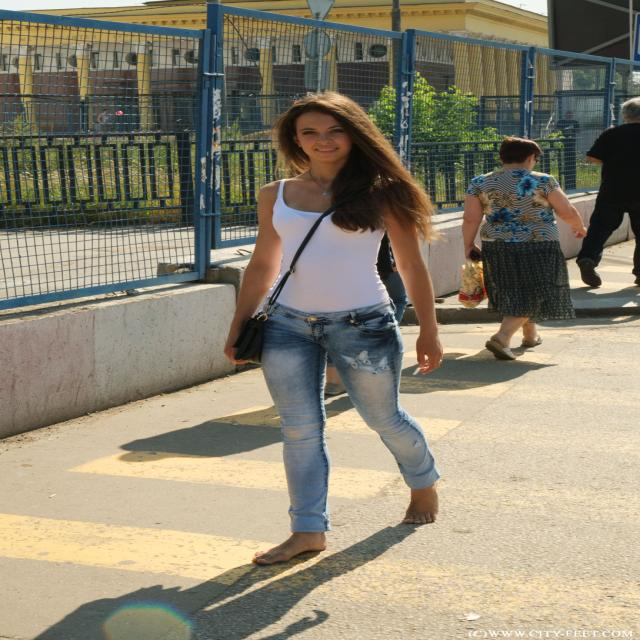No Safety Boots: (252, 533, 328, 565), (403, 478, 440, 524)
